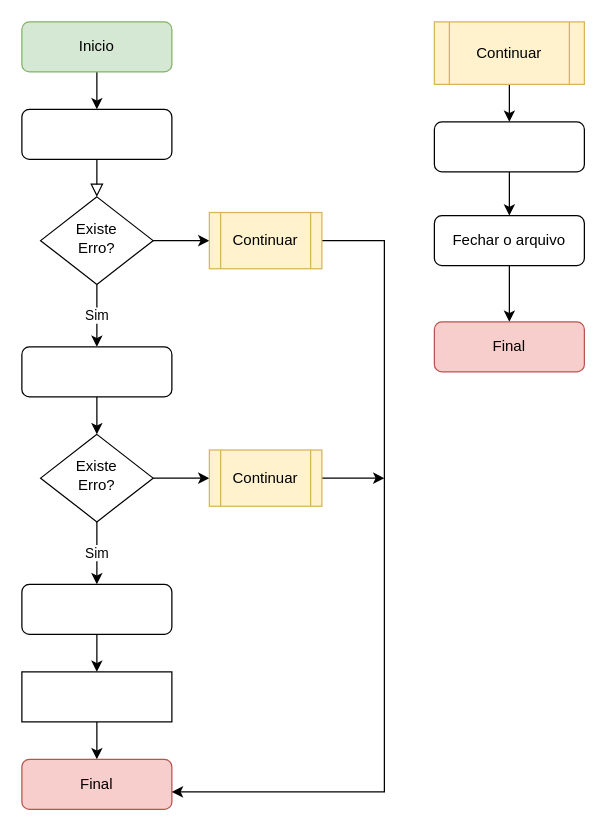
The diagram is 606 pixels wide and 831 high, and some of its shapes have lost their labels. The shapes that lost their labels are listed below. From the top down, each one's centre as x and y in pixels, then its label:
At point 96,133: "Abrir o arquivo no modo Criação".
At point 508,146: "Gravar Informação no Arquivo".
At point 96,371: "Abrir o arquivo no modo de Gravação".
At point 96,608: "Mostrar Mensagem de Erro".
At point 96,696: "Finalizar Programa".
